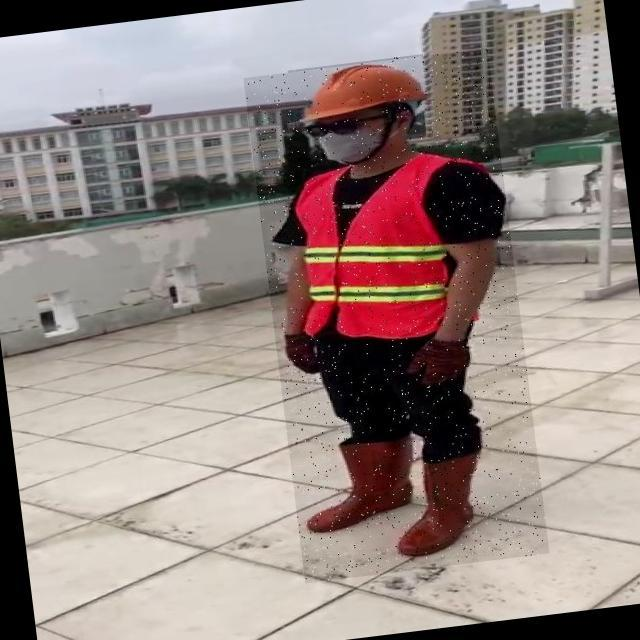Gloves: (403, 334, 472, 387), (281, 331, 319, 374)
Helmet: (287, 54, 429, 124)
Human: (243, 48, 549, 583)
Safety Boot: (297, 436, 418, 533), (392, 454, 489, 556)
Safety Vest: (284, 151, 479, 351)
